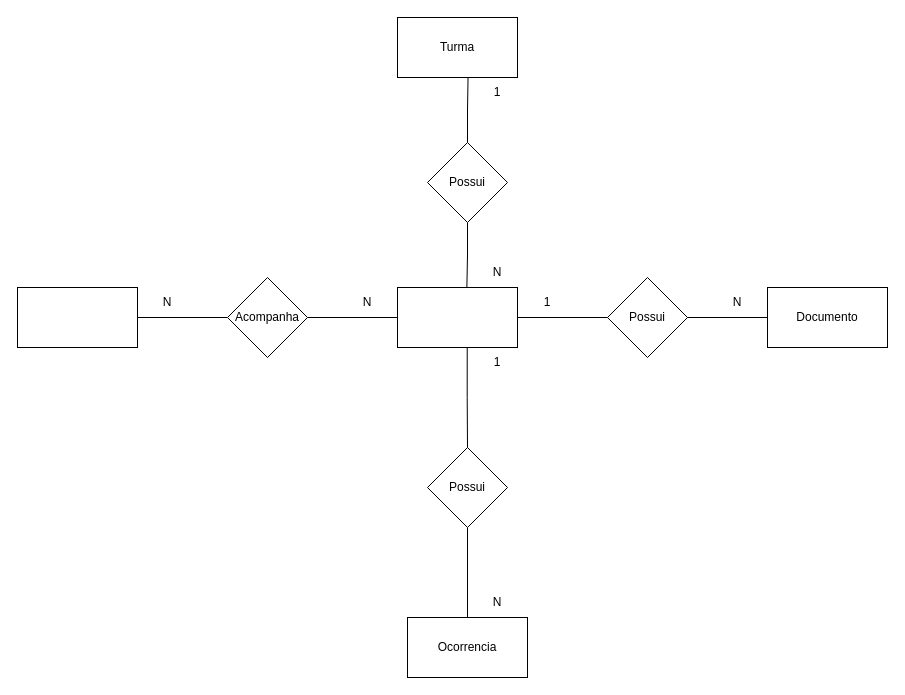
The diagram is 905 pixels wide and 695 high, and some of its shapes have lost their labels. The shapes that lost their labels are listed below. From the top down, each one's centre as x and y in pixels, then its label:
At (77,317): "Responsavel".
At (457,317): "Aluno".
